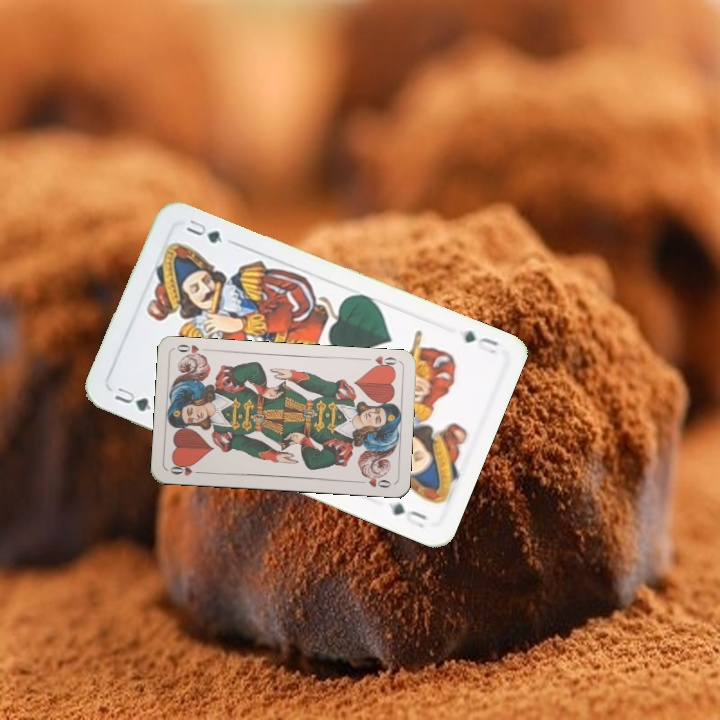GU: (110, 383, 154, 414), (460, 326, 501, 357)
HO: (360, 352, 401, 372), (166, 460, 206, 478)
